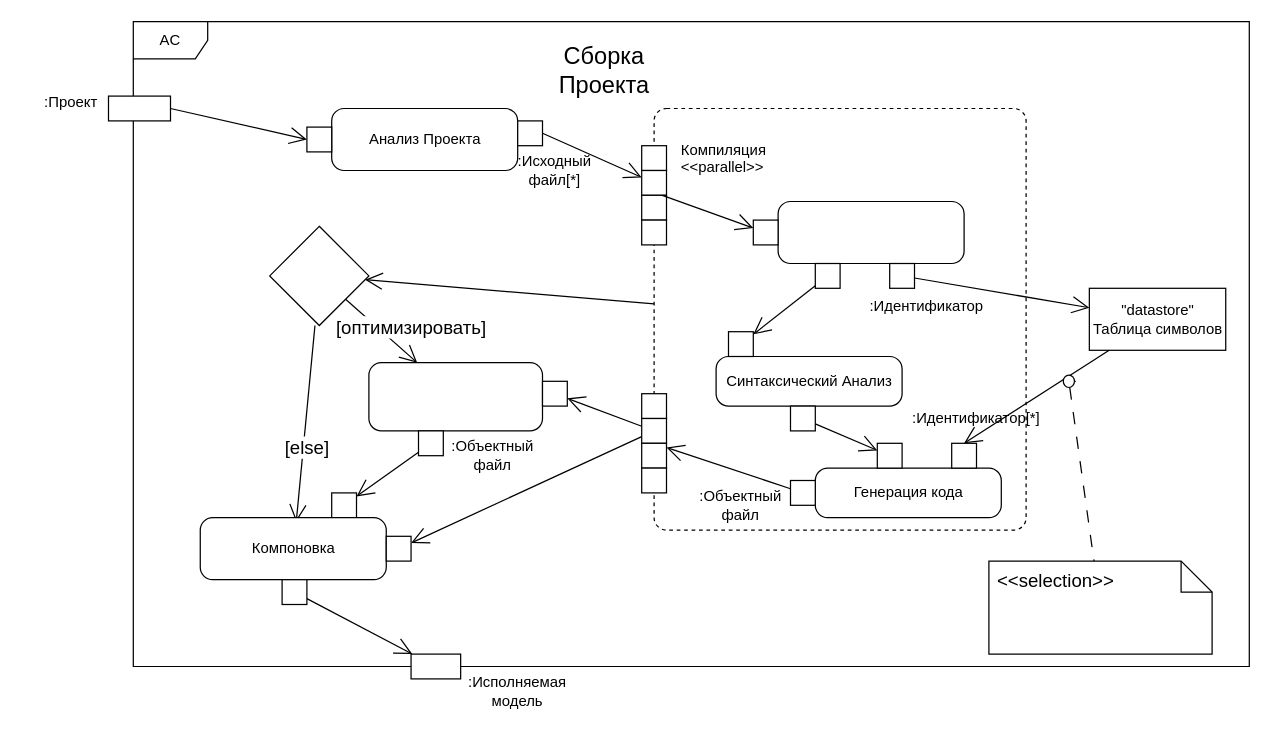
Image size: 1271x738. Some labels were removed from this diagram. Each missing label, with the centre of its shape:
"Object" belongs at [138,108].
"идентификатор.имя = узел.имя" belongs at [1100,607].
"Лексический Анализ" belongs at [870,232].
"Оптимизация" belongs at [455,396].
